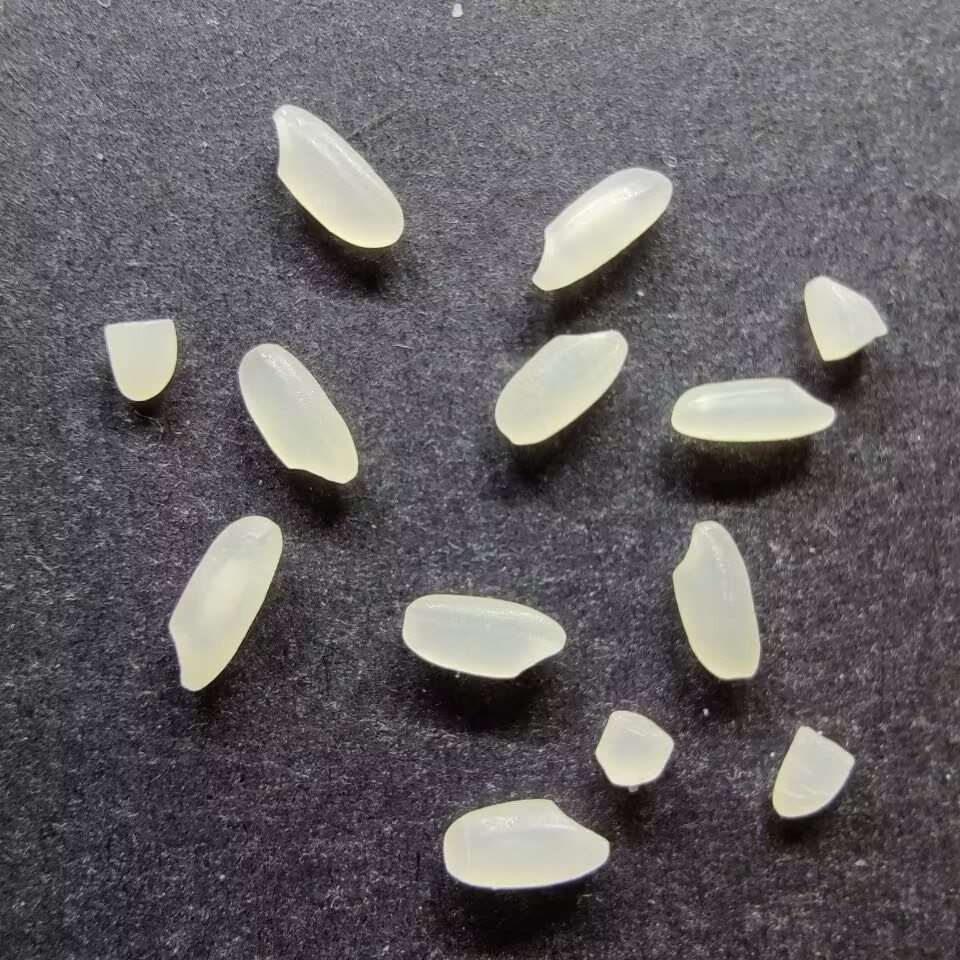broken: (770, 723, 855, 819), (802, 273, 890, 364), (591, 707, 681, 790), (101, 317, 180, 403)
rice: (166, 513, 283, 692), (271, 103, 404, 249), (236, 341, 360, 486), (532, 166, 672, 293), (492, 327, 629, 447), (440, 797, 610, 891), (669, 518, 762, 680), (399, 592, 567, 681), (669, 376, 838, 444)
